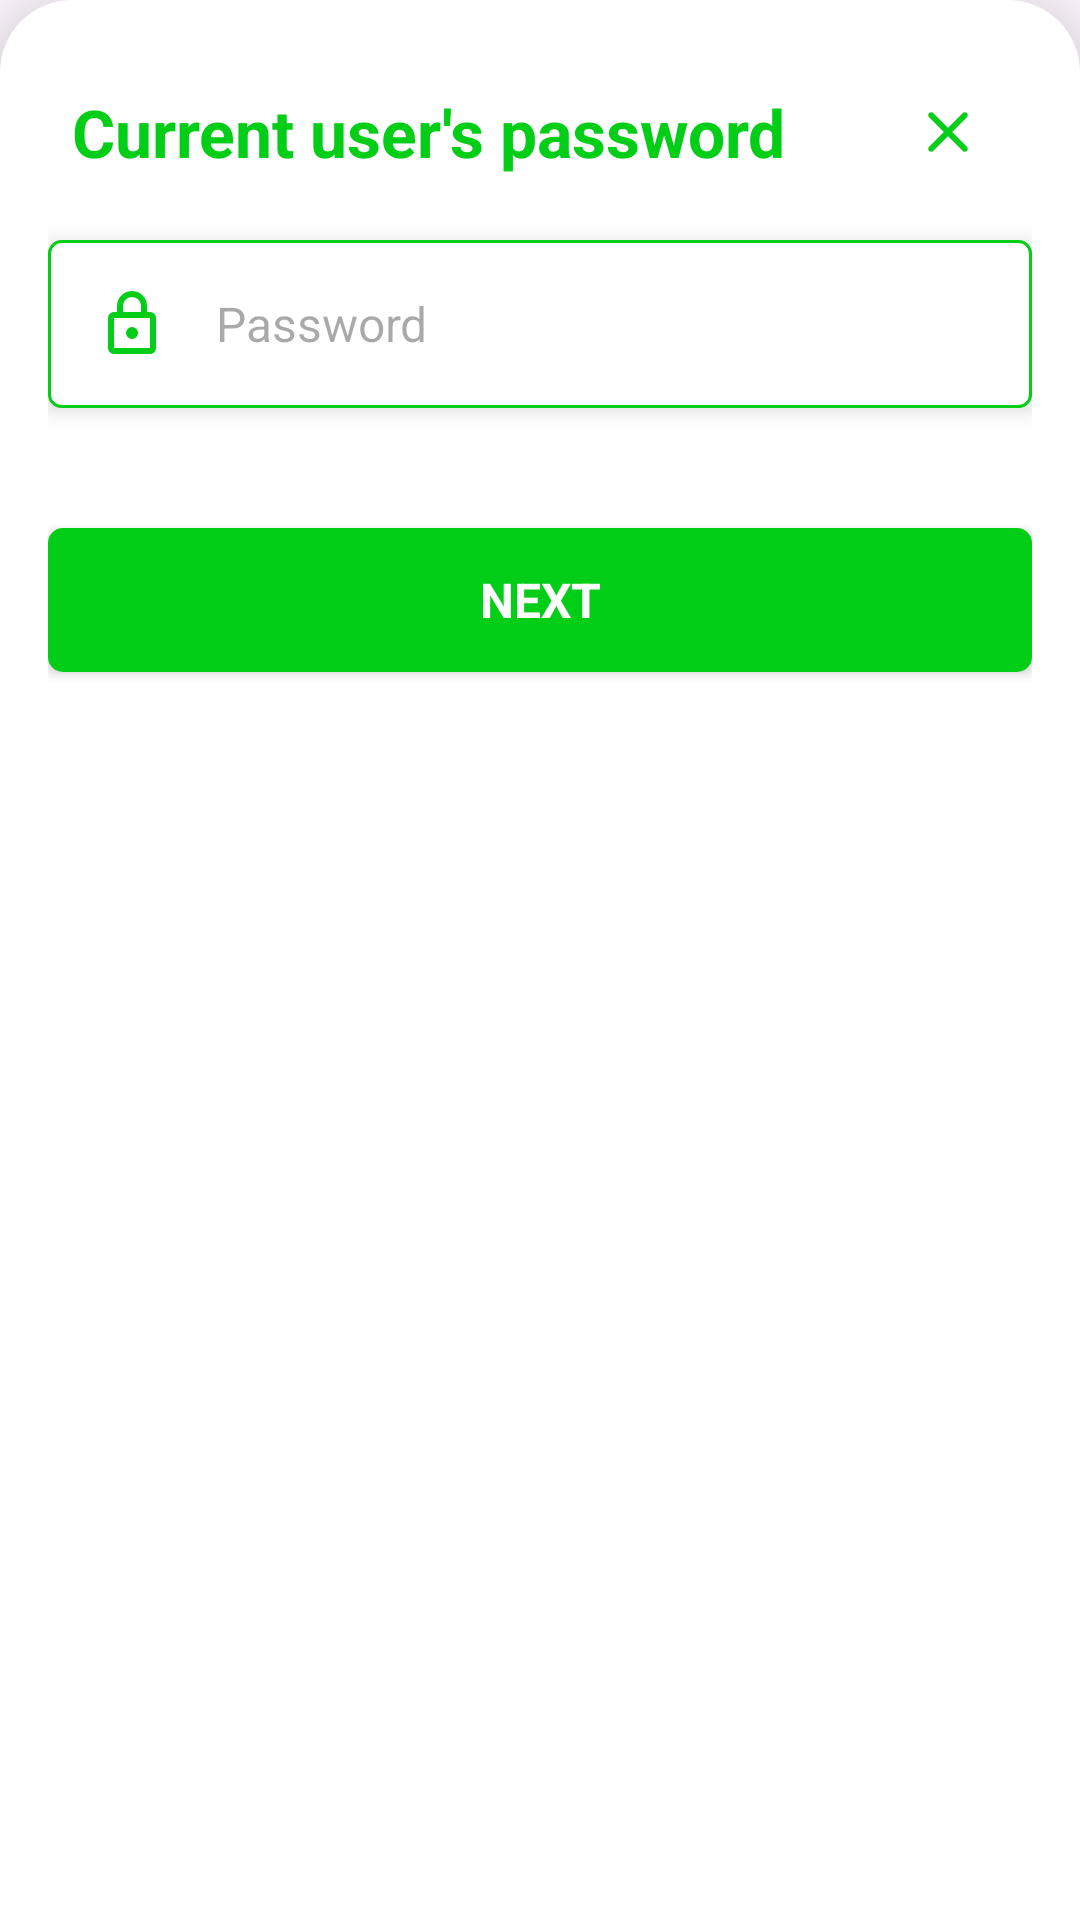

Icon bounding boxes for this 1080 x 1920 phone screenshot, format (x1, y1, x2, y2):
close: (928, 112, 968, 152)
